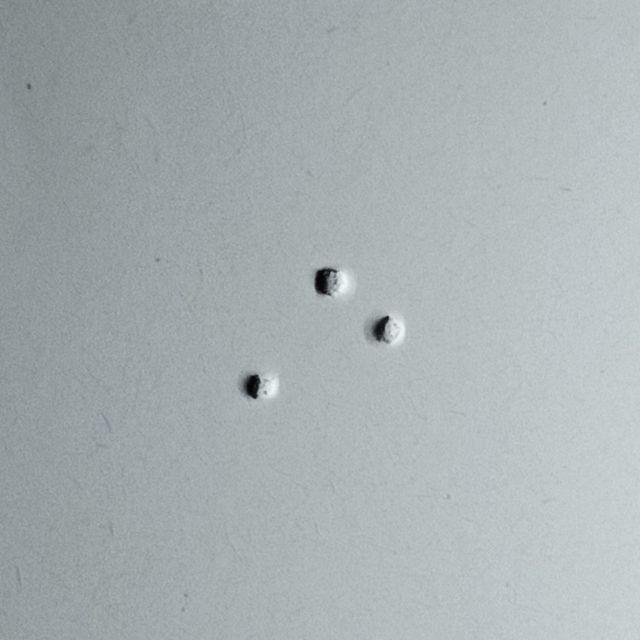E: (315, 266, 404, 402)
capital: (189, 265, 278, 401)
